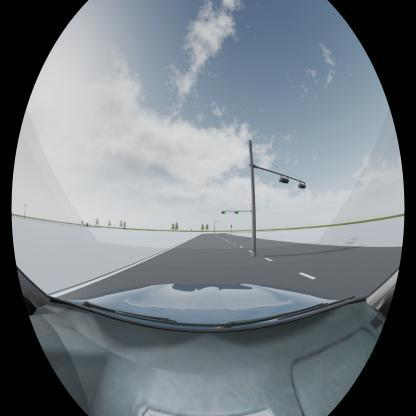Green Light: (234, 211, 240, 214), (221, 211, 226, 214)
